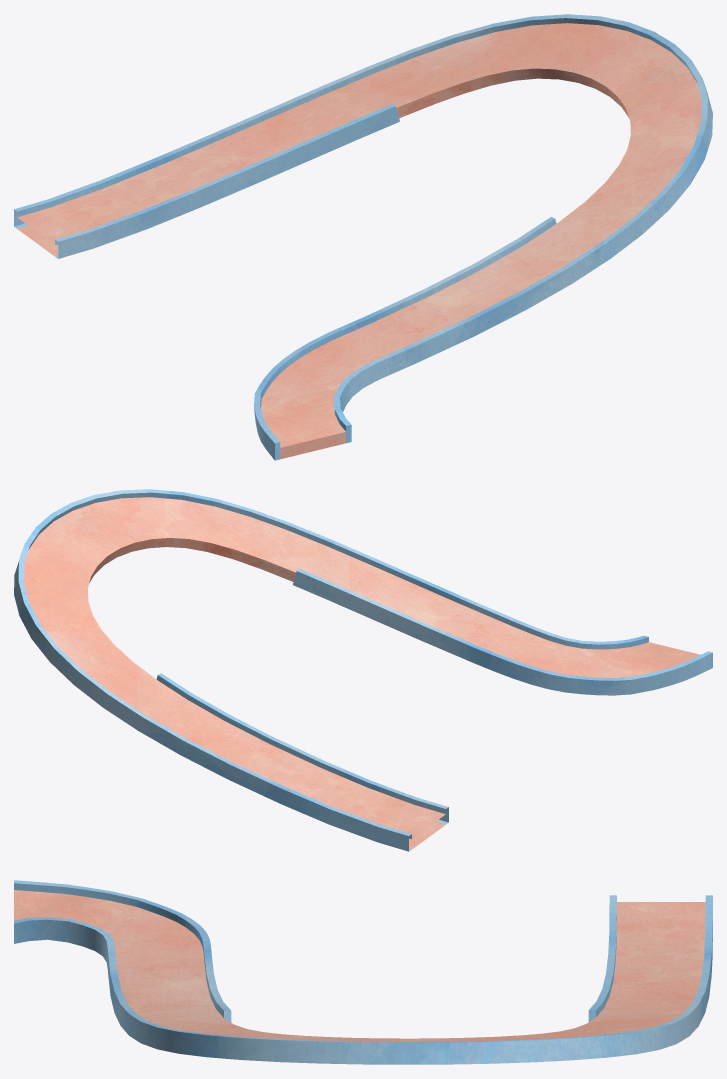
File: Stage_slant1.fbx
3 views of the same model, one above another, from view 1: azimuth 30°, elevation 25°; view 2: azimuth 150°, elevation 25°; view 3: azimuth 270°, elevation 25° (orthographic). The views are drawn at different scales.
Visible parts, largest first — view 1: Stage_slant_001, Stage_slant_002; view 2: Stage_slant_001, Stage_slant_002; view 3: Stage_slant_001, Stage_slant_002.
Boxes of the visible parts, x1,y1,x2,y2 form: Stage_slant_001: (17,23,701,459); Stage_slant_002: (14,14,712,460); Stage_slant_001: (24,497,700,849); Stage_slant_002: (14,489,712,851); Stage_slant_001: (14,890,705,1041); Stage_slant_002: (14,880,712,1064).
Bounding box in the file's own units: 3137 × 811 × 2837.
